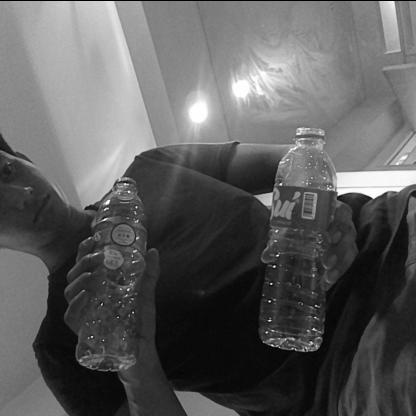plastic_bottles: (262, 127, 326, 350), (75, 177, 144, 375)
